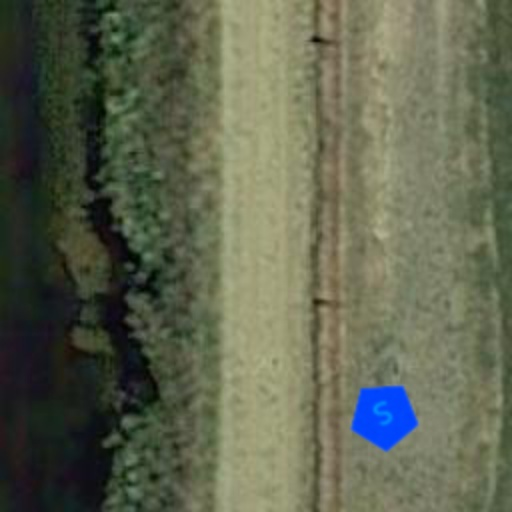pentagon: (336, 368, 432, 464)
